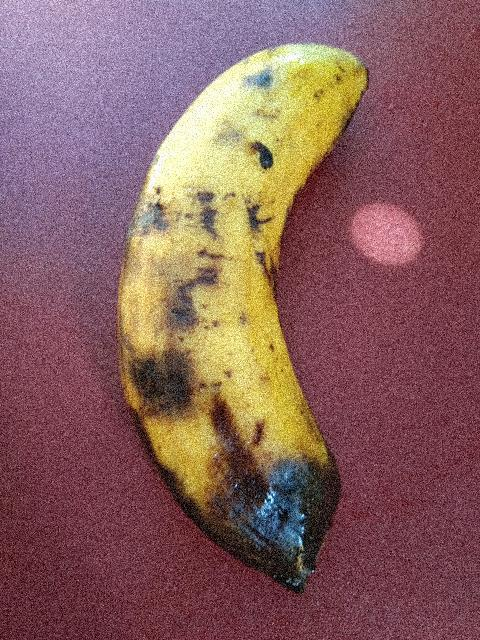overripe: (84, 43, 381, 416)
rotten: (107, 312, 423, 635)
